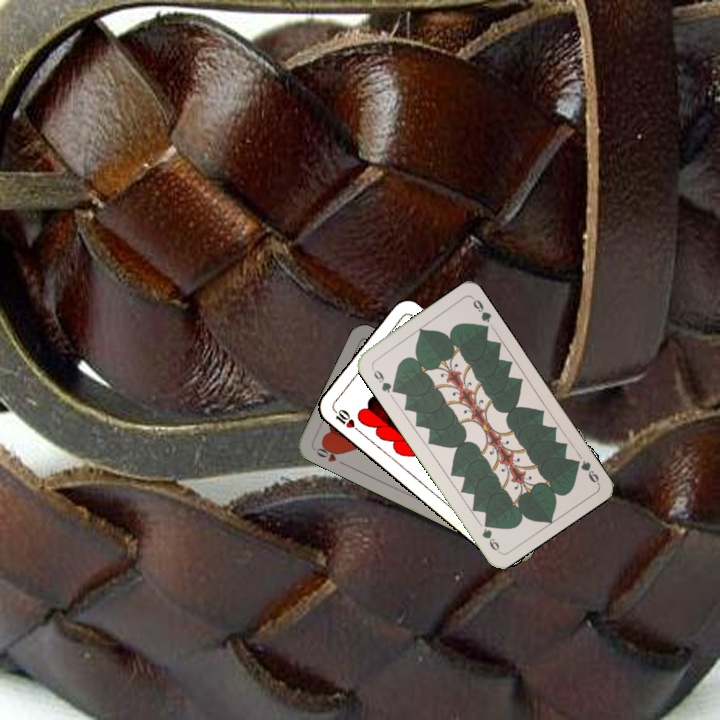G9: (367, 363, 399, 396), (569, 455, 602, 486)
H10: (329, 404, 363, 435)
HO: (310, 441, 349, 468)
